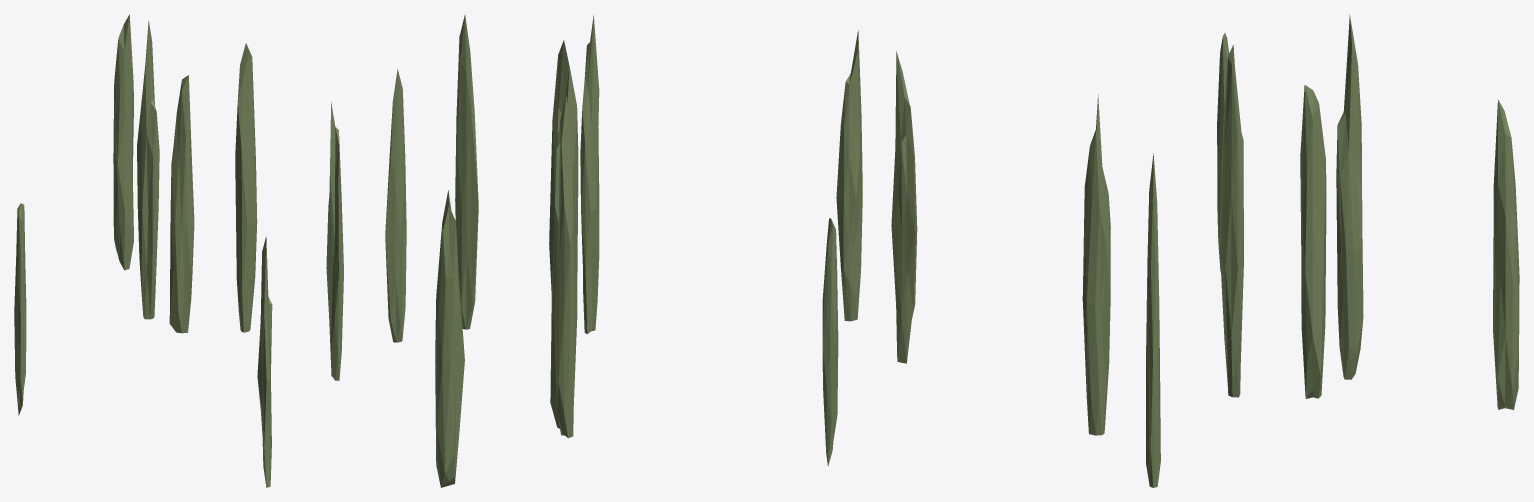
Rendered from reed_clump_01.glb.
3 views of the same model, side by side, from view 1: azimuth 30°, elevation 25°; view 2: azimuth 150°, elevation 25°; view 3: azimuth 270°, elevation 25° (orthographic). The views are drawn at different scales.
Visible parts, largest first — view 1: reed_clump_01_5, reed_clump_01_2, reed_clump_01_3, reed_clump_01_1, reed_clump_01_4, reed_clump_01_0, reed_clump_01_6, reed_clump_01_7; view 2: reed_clump_01_1, reed_clump_01_3, reed_clump_01_6, reed_clump_01_4, reed_clump_01_0, reed_clump_01_7, reed_clump_01_5, reed_clump_01_2; view 3: reed_clump_01_3, reed_clump_01_2, reed_clump_01_0, reed_clump_01_1, reed_clump_01_5, reed_clump_01_6, reed_clump_01_4, reed_clump_01_7.
Boxes of the visible parts, x1=… form: reed_clump_01_5: x1=235, y1=43, x2=257, y2=332; reed_clump_01_2: x1=169, y1=75, x2=194, y2=333; reed_clump_01_3: x1=137, y1=21, x2=159, y2=319; reed_clump_01_1: x1=113, y1=14, x2=133, y2=270; reed_clump_01_4: x1=385, y1=69, x2=406, y2=342; reed_clump_01_0: x1=326, y1=102, x2=343, y2=380; reed_clump_01_6: x1=257, y1=236, x2=272, y2=487; reed_clump_01_7: x1=14, y1=203, x2=26, y2=415; reed_clump_01_1: x1=435, y1=190, x2=464, y2=487; reed_clump_01_3: x1=554, y1=94, x2=577, y2=438; reed_clump_01_6: x1=836, y1=30, x2=862, y2=321; reed_clump_01_4: x1=455, y1=14, x2=478, y2=329; reed_clump_01_0: x1=580, y1=15, x2=599, y2=334; reed_clump_01_7: x1=822, y1=218, x2=838, y2=466; reed_clump_01_5: x1=549, y1=40, x2=578, y2=300; reed_clump_01_2: x1=550, y1=141, x2=559, y2=428; reed_clump_01_3: x1=1336, y1=14, x2=1363, y2=379; reed_clump_01_2: x1=1300, y1=85, x2=1326, y2=398; reed_clump_01_0: x1=1082, y1=94, x2=1110, y2=435; reed_clump_01_1: x1=1493, y1=99, x2=1519, y2=409; reed_clump_01_5: x1=1220, y1=44, x2=1243, y2=397; reed_clump_01_6: x1=891, y1=51, x2=917, y2=363; reed_clump_01_4: x1=1146, y1=153, x2=1160, y2=487; reed_clump_01_7: x1=1217, y1=33, x2=1229, y2=271.
Size of the model in its own units: 0.8698 by 0.7303 by 1.07.
